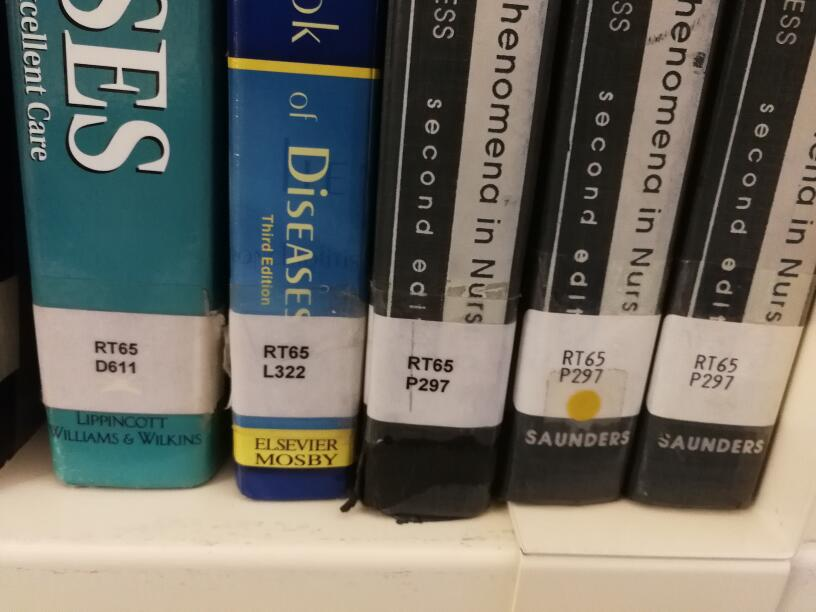booklabel: (403, 353, 454, 394), (686, 352, 739, 391), (261, 342, 312, 380), (91, 338, 140, 376), (557, 347, 606, 385)
